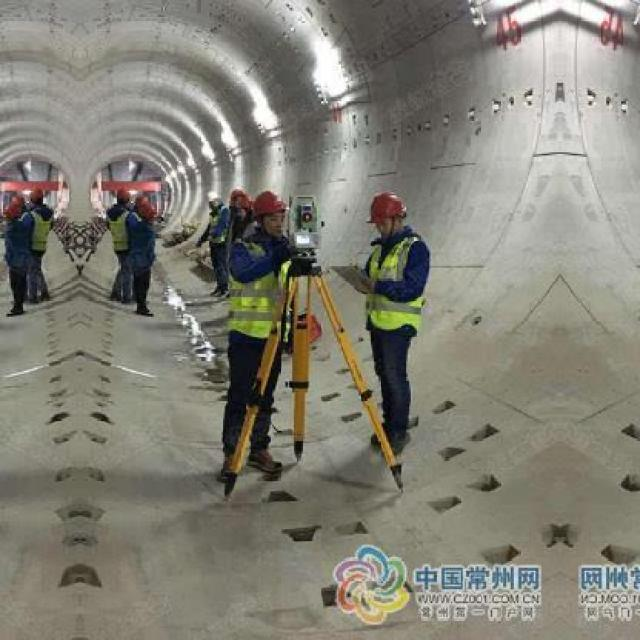hat: (248, 191, 297, 227), (366, 189, 412, 225), (113, 188, 136, 208), (205, 188, 225, 205)
